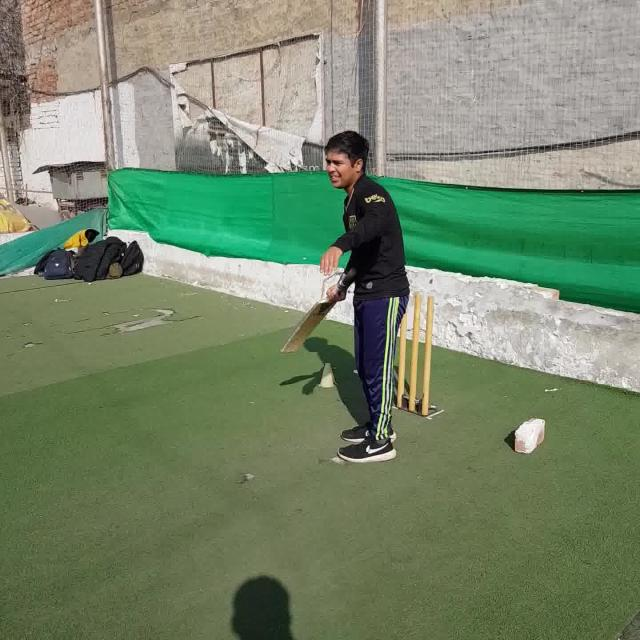bat: (281, 269, 355, 353)
